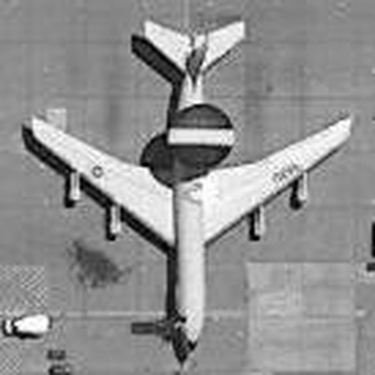airplane: (8, 10, 360, 352)
